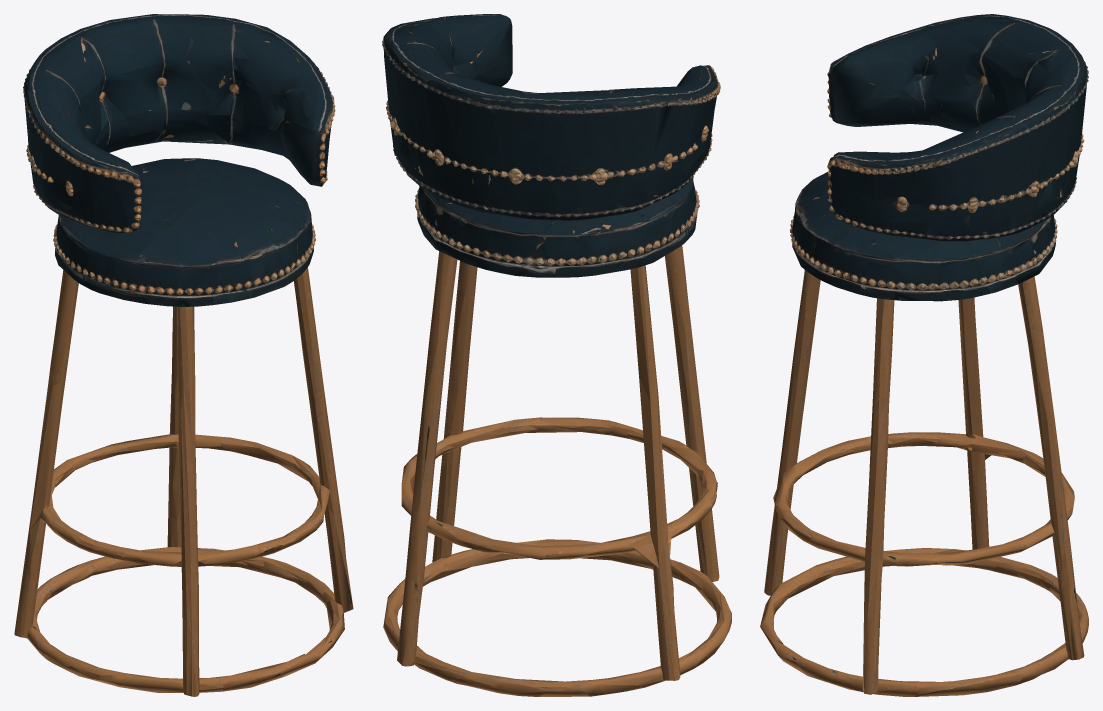
Rendered from loungeStool-medio.glb.
The picture shows the model from 3 angles, left to right: view 1: azimuth 30°, elevation 25°; view 2: azimuth 150°, elevation 25°; view 3: azimuth 270°, elevation 25°; orthographic projection. The views are drawn at different scales.
Size of the model in its own units: 1.02 by 1.9 by 1.01.
Materials: 1 (1 with a texture image).
